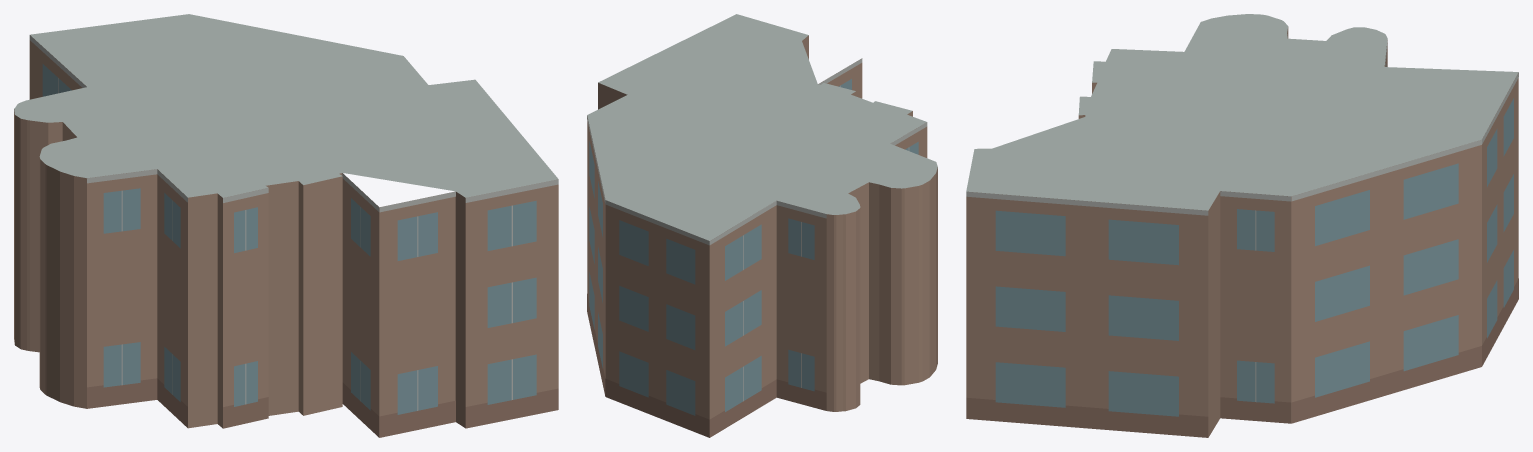
Rendered from survey-upis-32492515.glb.
The picture shows the model from 3 angles, left to right: view 1: azimuth 30°, elevation 25°; view 2: azimuth 150°, elevation 25°; view 3: azimuth 270°, elevation 25°; orthographic projection. The views are drawn at different scales.
Visible parts, largest first — view 1: survey-upis-32492515.tmp; view 2: survey-upis-32492515.tmp; view 3: survey-upis-32492515.tmp.
Part boxes in pixels (x1,y1,x2,y2): survey-upis-32492515.tmp: (14,14,558,437); survey-upis-32492515.tmp: (587,14,937,437); survey-upis-32492515.tmp: (966,14,1518,437).
Bounding box in the file's own units: 20.01 × 10.78 × 23.76.
